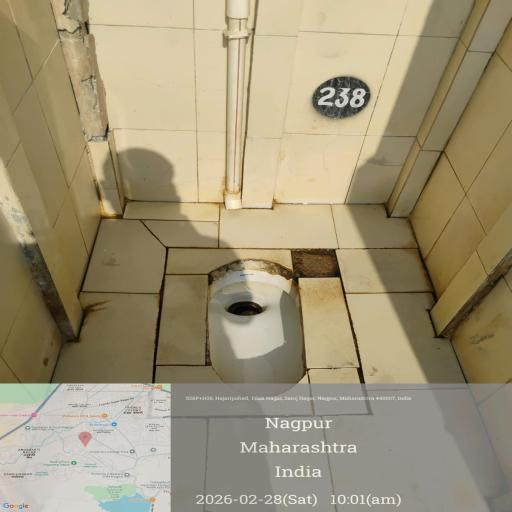partial_dirty_floor: (89, 213, 479, 482), (78, 19, 467, 199)
partial_dirty_indian: (154, 246, 386, 418)
